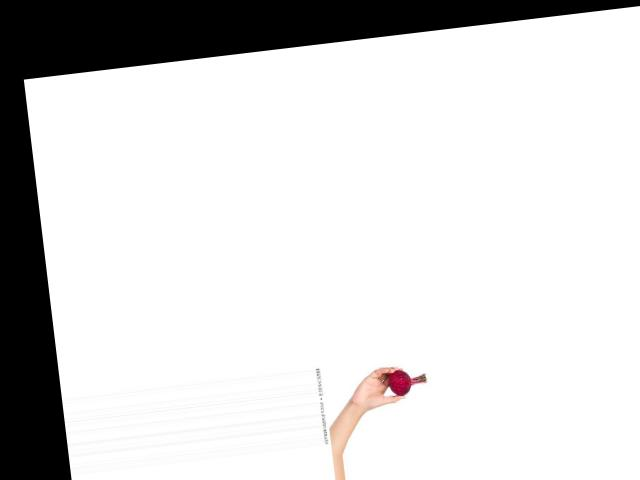beet: (386, 366, 428, 396)
